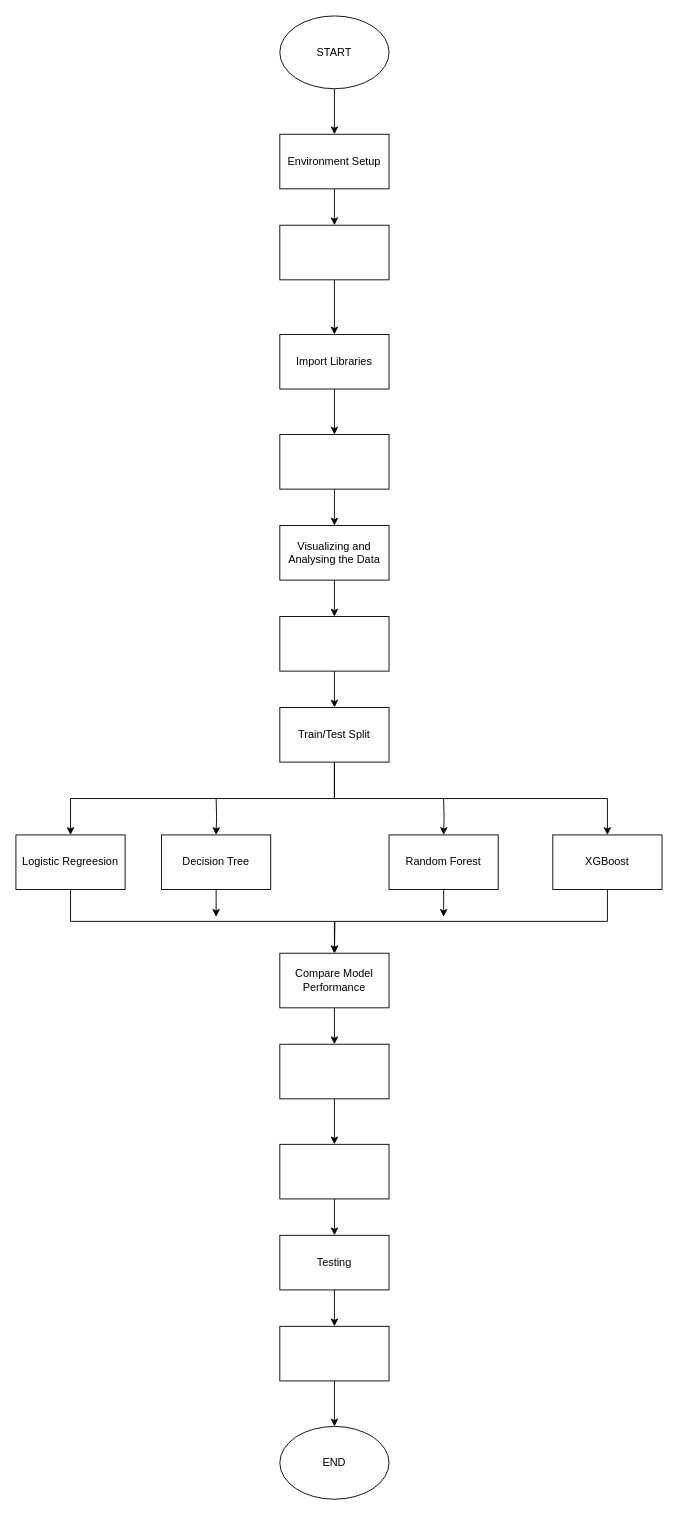
Image size: 678x1515. Some labels were removed from this diagram. Here are the shapes that lost their labels. From the top down, the centre of each, then its label:
(x=334, y=252): Download Dataset
(x=334, y=461): Read Dataset
(x=334, y=643): Data Pre-processing
(x=334, y=1071): Save Best Model
(x=334, y=1171): Develop Flask Application
(x=334, y=1353): Deployment
